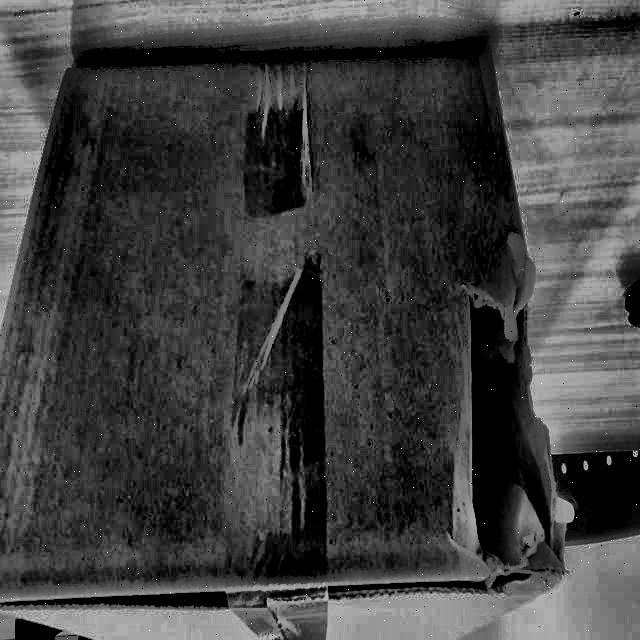box: (0, 39, 579, 640)
hole: (467, 258, 565, 600)
